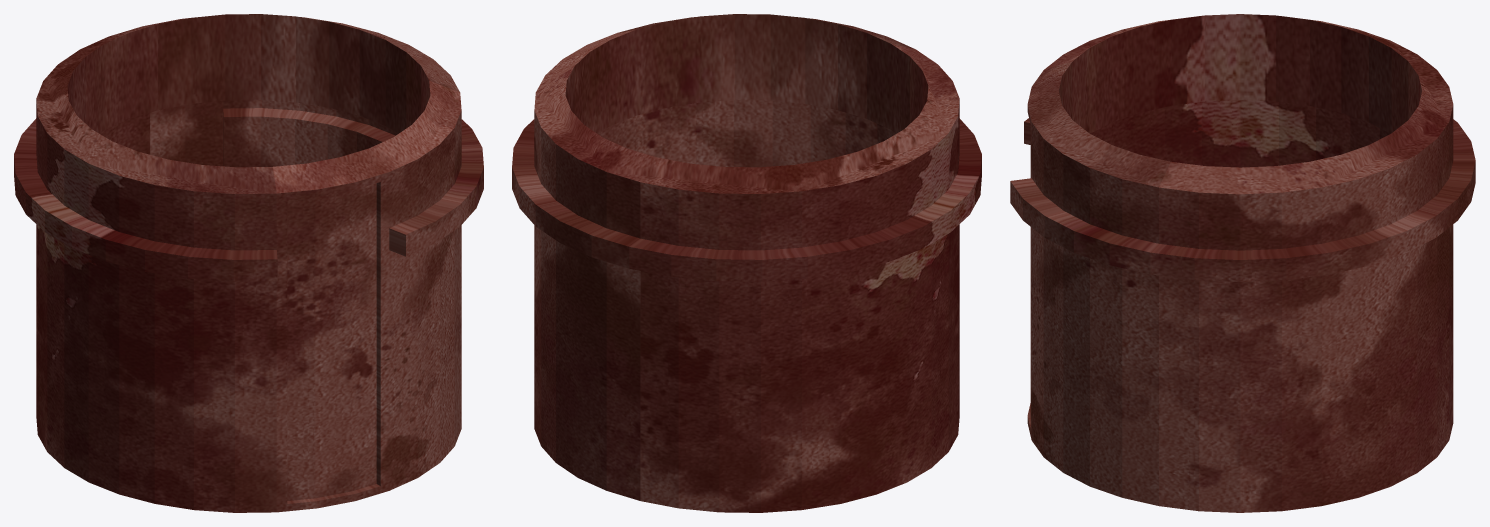
File: tubeTower.fbx
3 renders of one model, left to right at view 1: azimuth 30°, elevation 25°; view 2: azimuth 150°, elevation 25°; view 3: azimuth 270°, elevation 25°, orthographic.
Visible parts, largest first — view 1: Cylinder.043; view 2: Cylinder.043; view 3: Cylinder.043.
Part boxes in pixels (bbox=[...]): Cylinder.043: bbox=[14, 14, 483, 512]; Cylinder.043: bbox=[512, 14, 981, 512]; Cylinder.043: bbox=[1010, 14, 1475, 512].
Bounding box in the file's own units: 283 × 221 × 280.
1 material, 1 textured.
